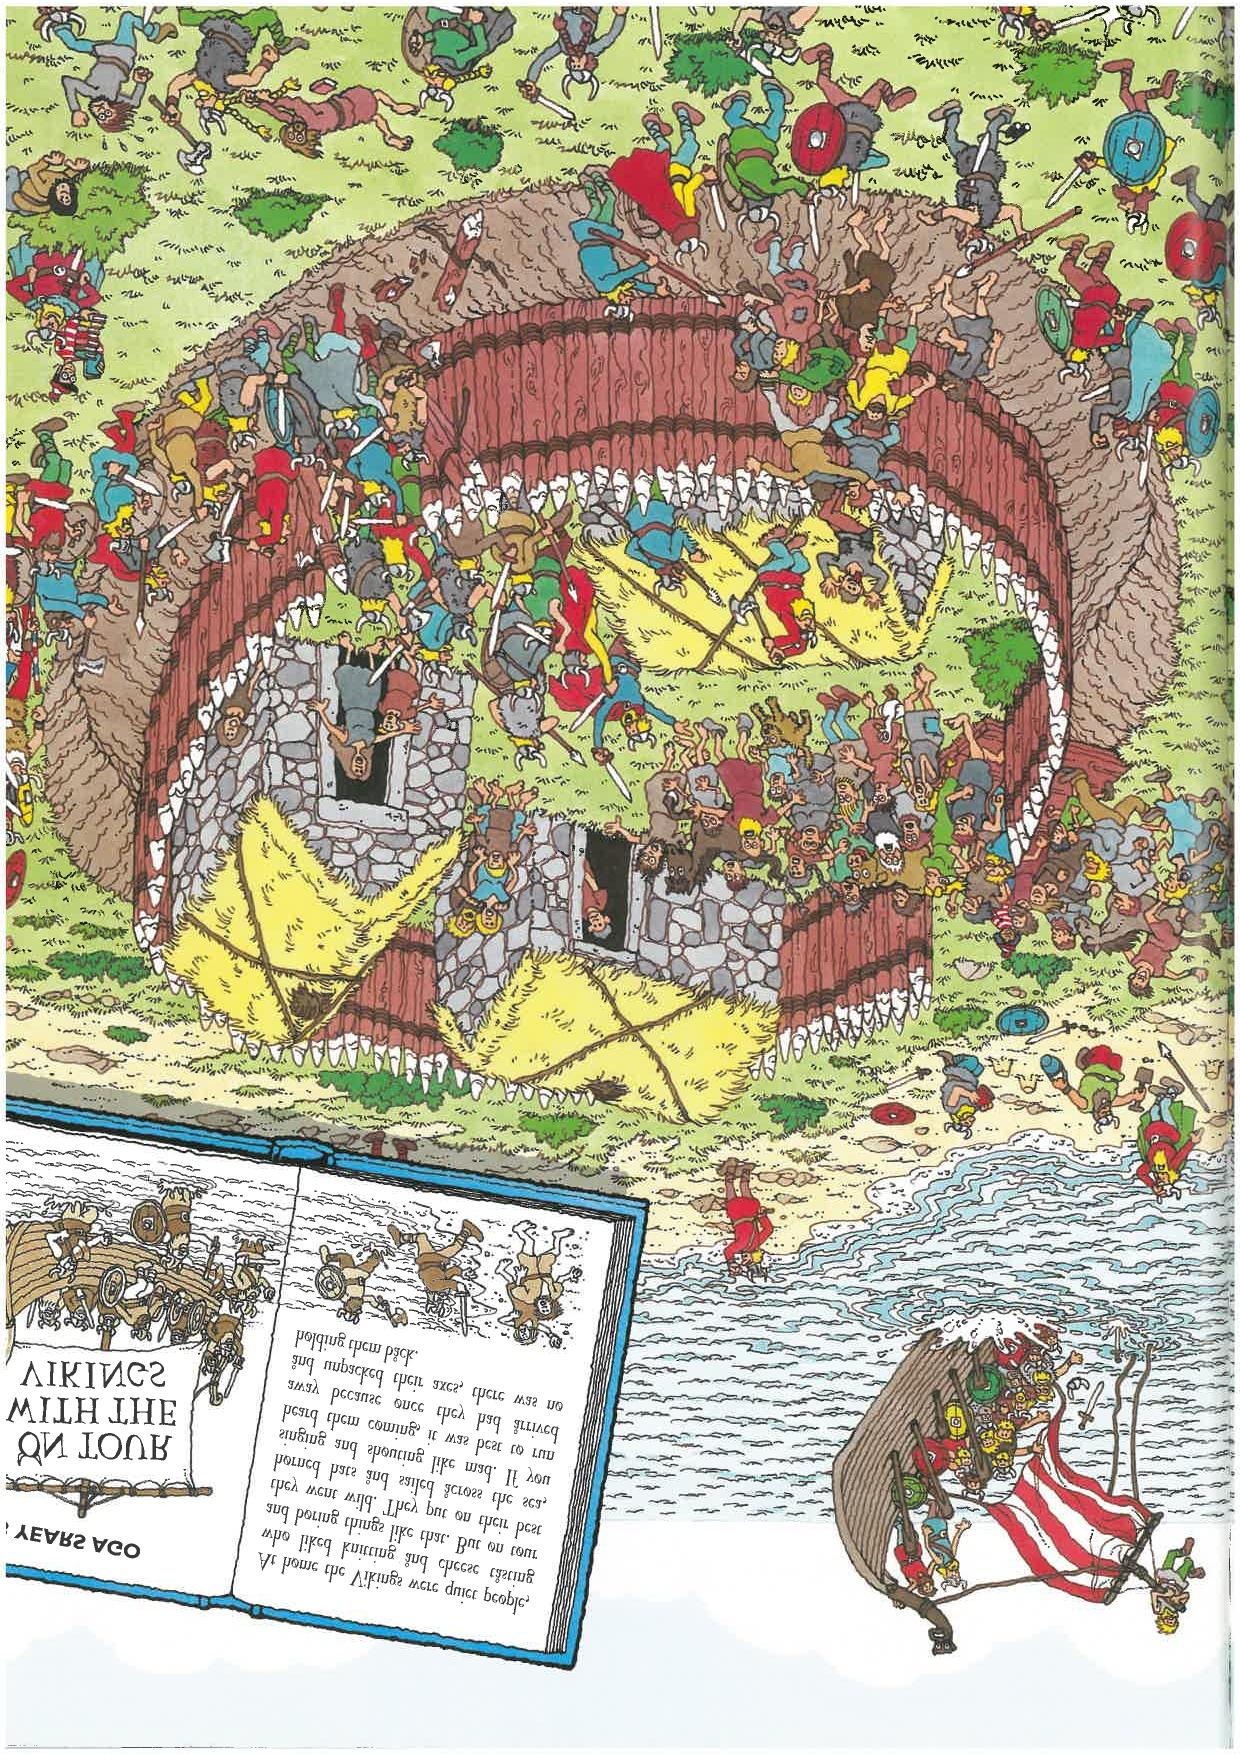waldos: (47, 306, 106, 407)
